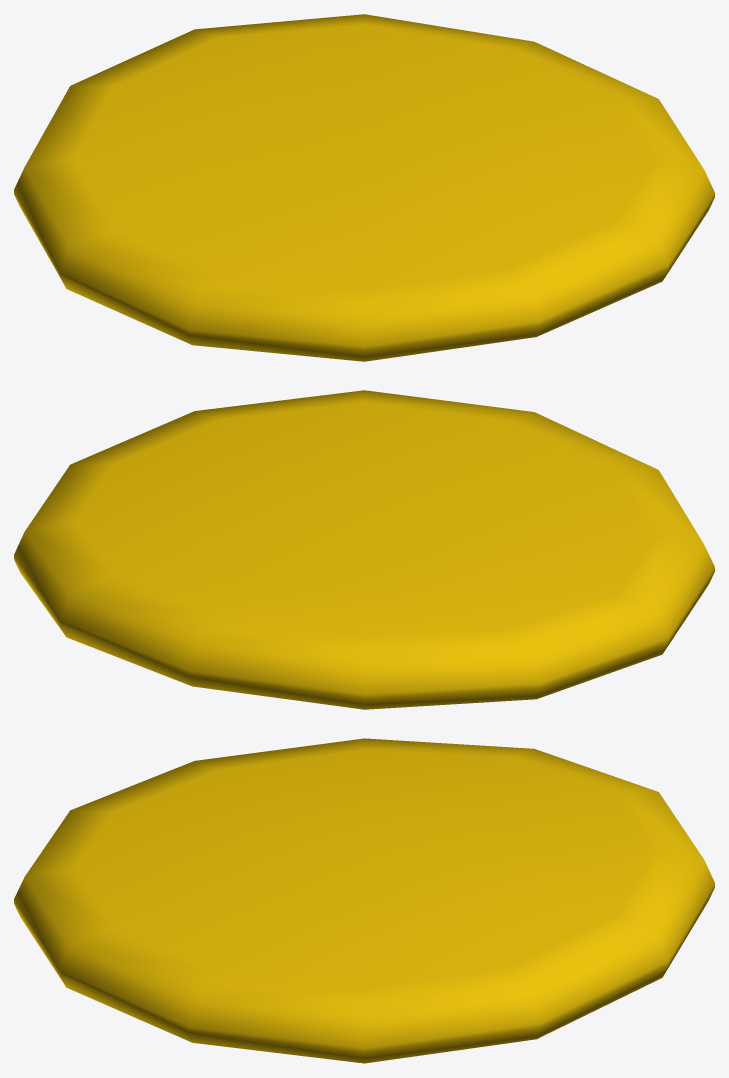
File: omelete.fbx
The picture shows the model from 3 angles, top to bottom: view 1: azimuth 30°, elevation 25°; view 2: azimuth 150°, elevation 25°; view 3: azimuth 270°, elevation 25°; orthographic projection.
Visible parts, largest first — view 1: Omelete; view 2: Omelete; view 3: Omelete.
Boxes of the visible parts, x1,y1,x2,y2 form: Omelete: (14, 14, 714, 361); Omelete: (14, 390, 714, 709); Omelete: (14, 738, 714, 1063).
Bounding box in the file's own units: 80 × 10.21 × 80.
